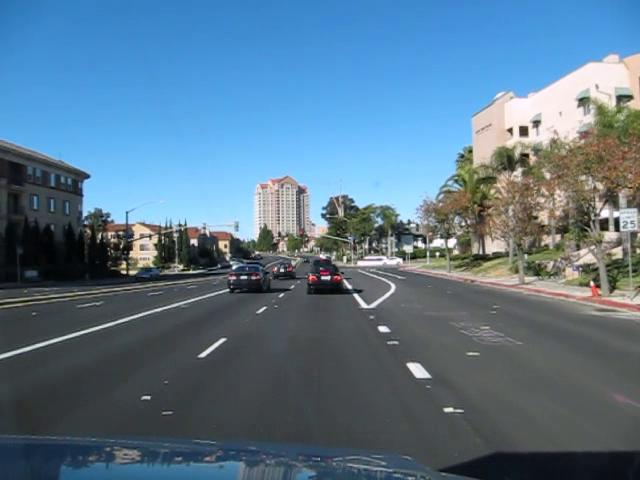speedLimit25: (618, 206, 638, 231)
